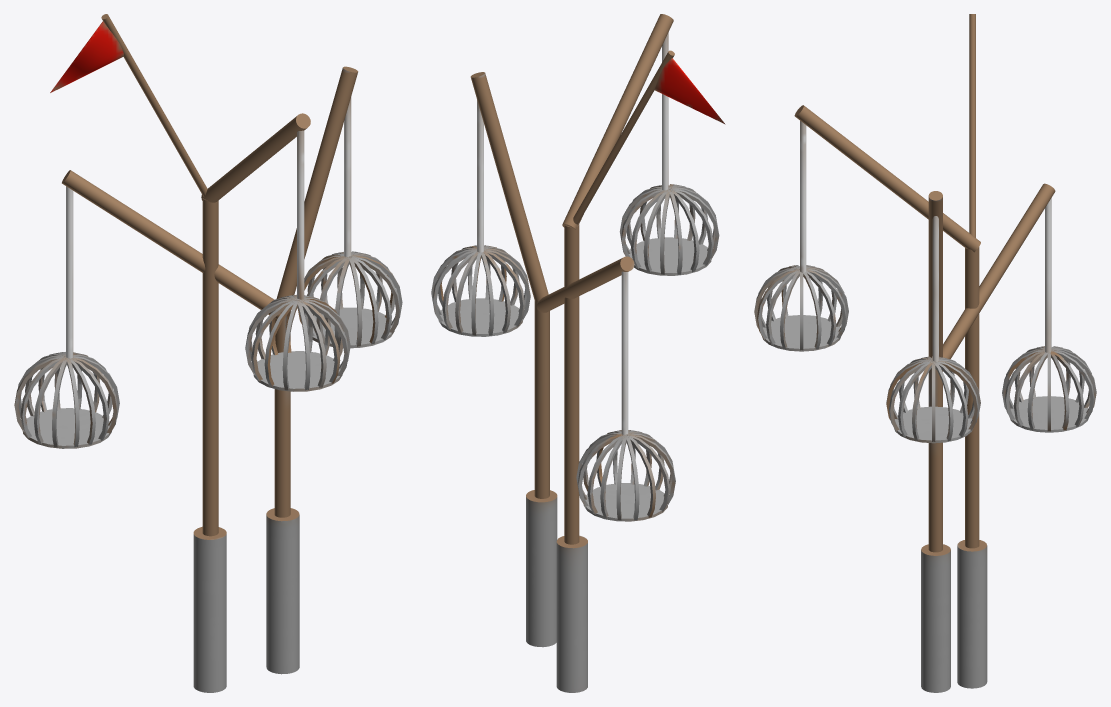
Rendered from cell_thingy.fbx.
3 renders of one model, left to right at view 1: azimuth 30°, elevation 25°; view 2: azimuth 150°, elevation 25°; view 3: azimuth 270°, elevation 25°, orthographic. The views are drawn at different scales.
Visible parts, largest first — view 1: pCone3; view 2: pCone3; view 3: pCone3.
Boxes of the visible parts, bbox=[...] form: pCone3: bbox=[14, 14, 402, 692]; pCone3: bbox=[431, 14, 725, 692]; pCone3: bbox=[754, 14, 1096, 692].
Bounding box in the file's own units: 8.33 × 17.05 × 8.48.
